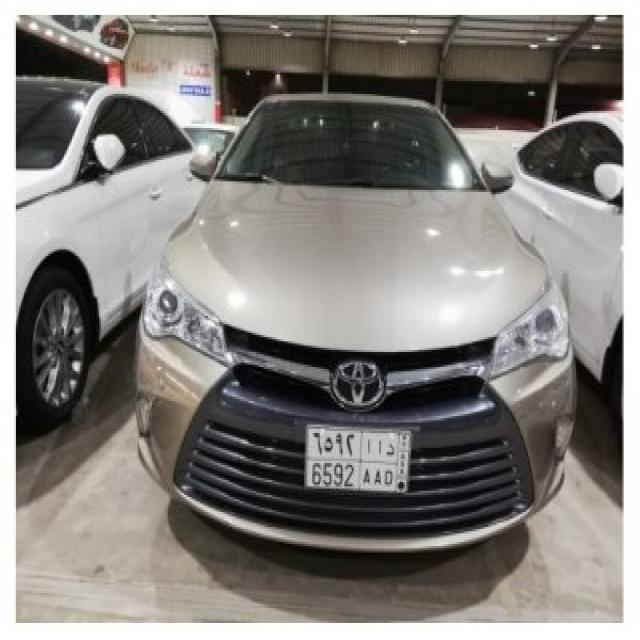license_plate: (302, 422, 413, 495)
